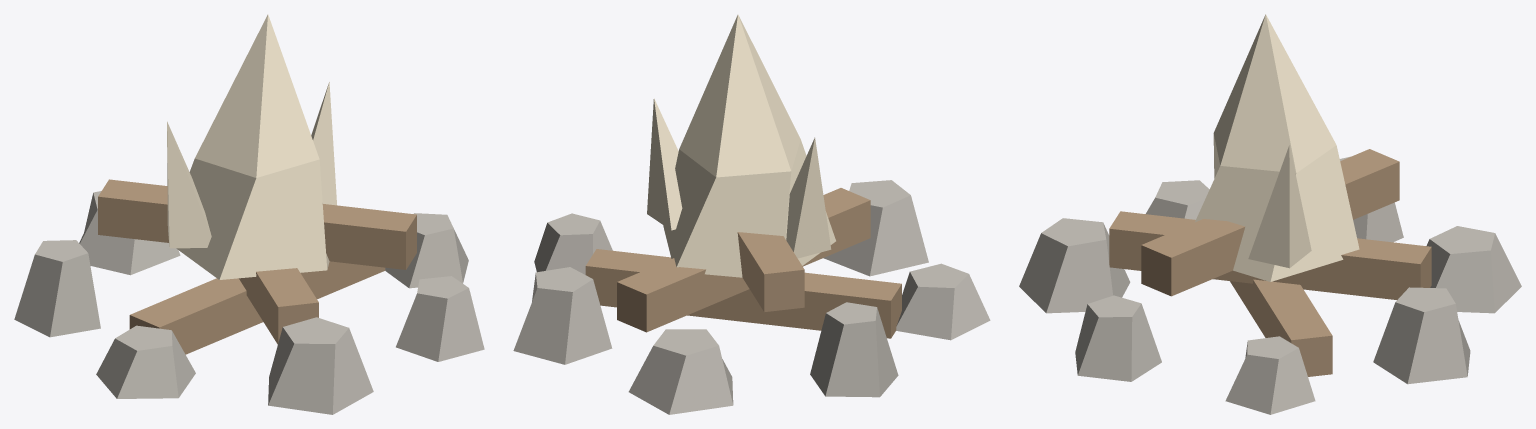
Rendered from campfire.glb.
3 views of the same model, side by side, from view 1: azimuth 30°, elevation 25°; view 2: azimuth 150°, elevation 25°; view 3: azimuth 270°, elevation 25° (orthographic).
Parts seen in each view (by area): view 1: campfire; view 2: campfire; view 3: campfire.
Part boxes in pixels (x1,y1,x2,y2): campfire: (14,14,484,414); campfire: (513,14,990,414); campfire: (1019,14,1521,414).
Size of the model in its own units: 0.9993 by 0.7 by 1.06.
